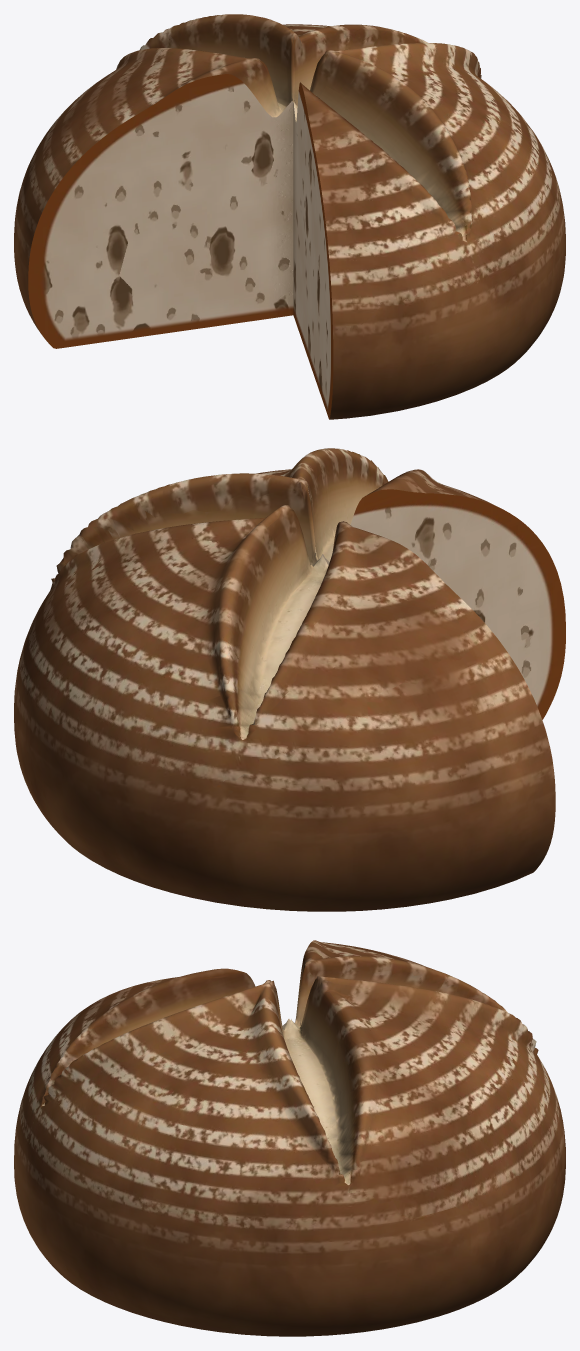
File: campagne--chestnut-flour.glb
3 views of the same model, one above another, from view 1: azimuth 30°, elevation 25°; view 2: azimuth 150°, elevation 25°; view 3: azimuth 270°, elevation 25° (orthographic). The views are drawn at different scales.
Parts seen in each view (by area): view 1: campagne_chestnut-flour; view 2: campagne_chestnut-flour; view 3: campagne_chestnut-flour.
Part boxes in pixels (x1,y1,x2,y2): campagne_chestnut-flour: (14,14,565,419); campagne_chestnut-flour: (14,448,565,911); campagne_chestnut-flour: (14,940,565,1336).
Bounding box in the file's own units: 0.9891 × 0.5303 × 0.9991.
Materials: 1 (1 with a texture image).
